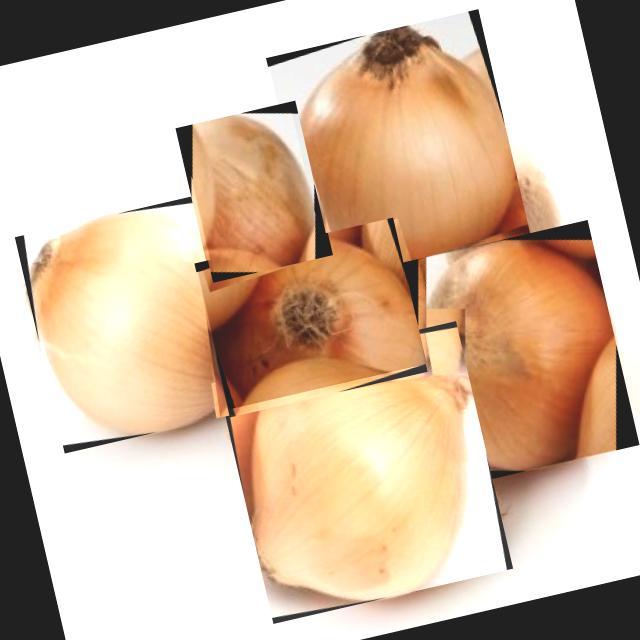healthy: (251, 349, 473, 599), (294, 25, 514, 273), (30, 210, 232, 434), (418, 239, 613, 470), (214, 237, 423, 395), (194, 114, 314, 266)
